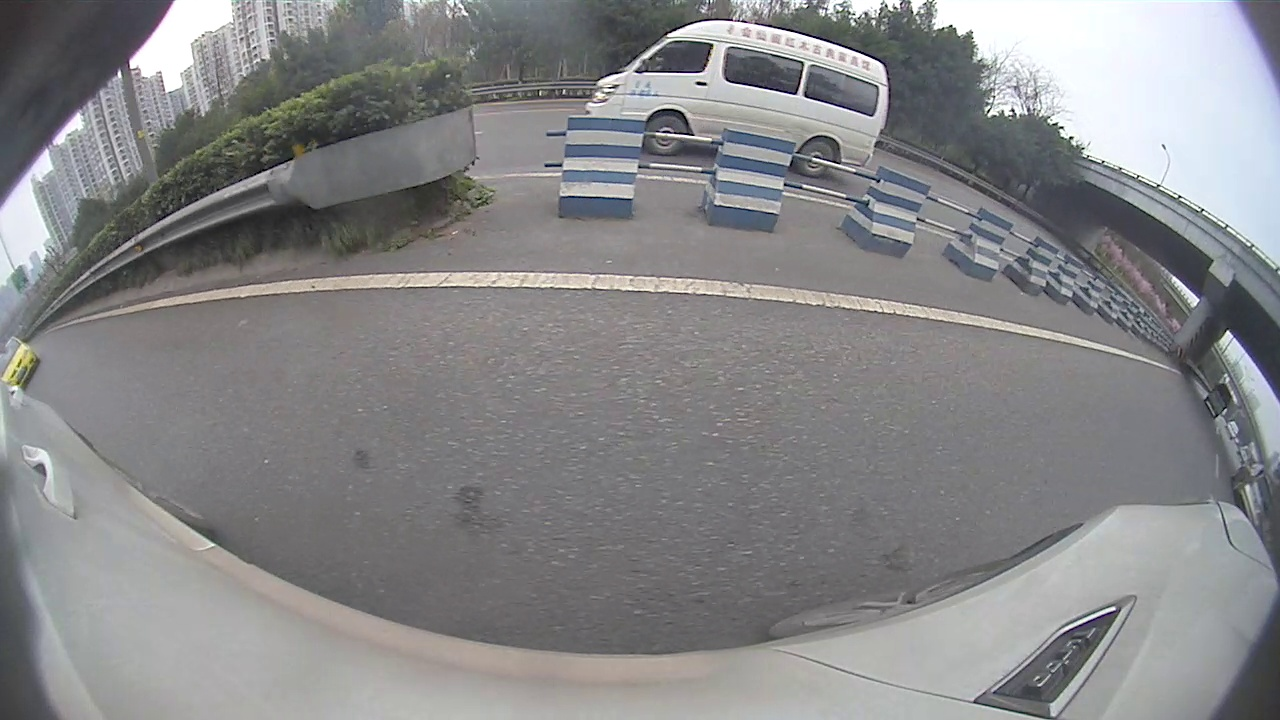car: (586, 20, 891, 176), (1233, 462, 1272, 530), (2, 337, 37, 386), (1205, 383, 1231, 417)
